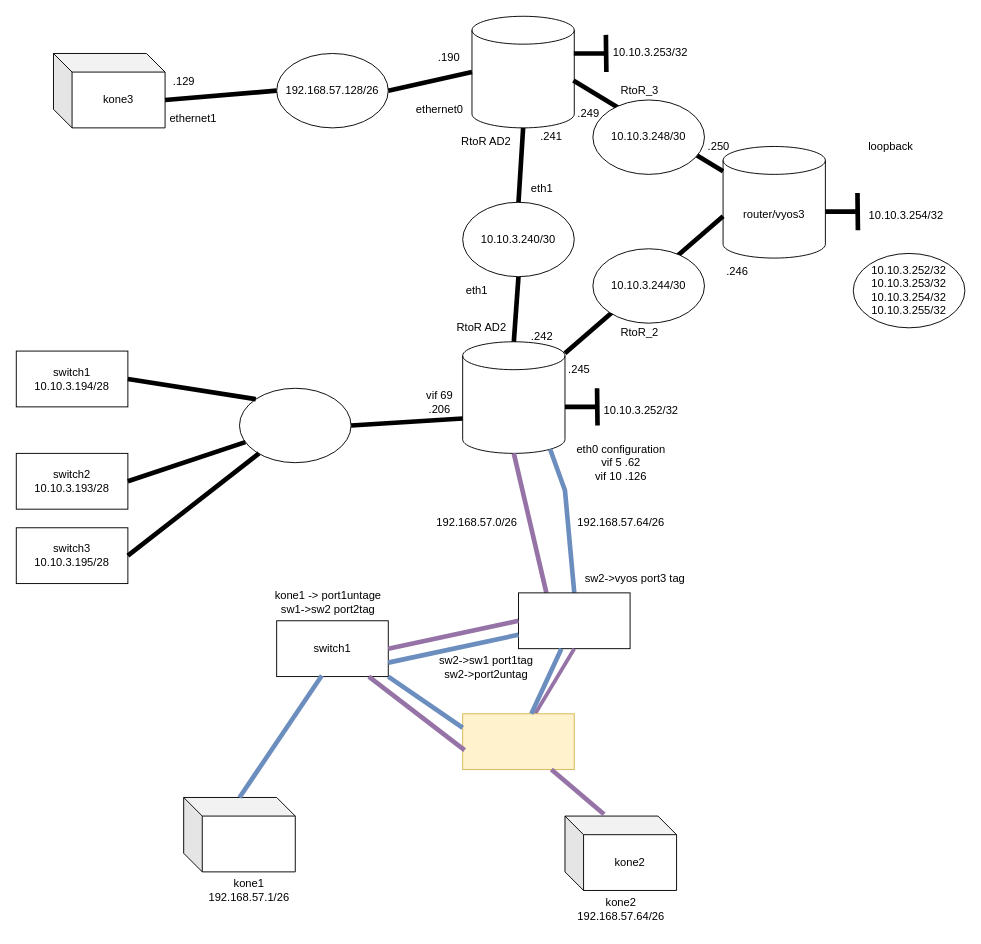
Image size: 981x944. Some labels were removed from this diagram. Here are the shapes that lost their labels. From the top down, the centre of each, then its label:
At pixel 522 71: "router/vyos2".
At pixel 513 397: "router/vyos".
At pixel 295 425: "vyos 10.10.3.192/28".
At pixel 574 620: "switch2".
At pixel 518 741: "switch3".
At pixel 239 834: "kone1".
